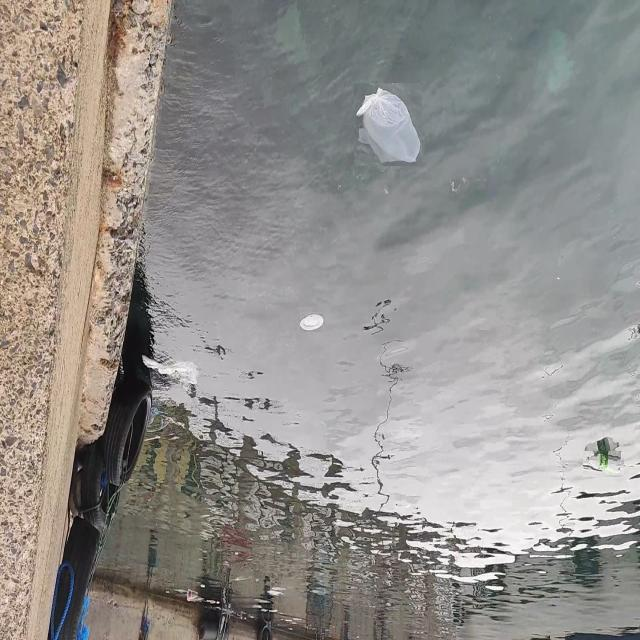Plastic: (300, 312, 324, 332)
Plastic bag: (354, 83, 422, 166), (141, 350, 200, 390)
Plastic bottle: (583, 451, 624, 477)
